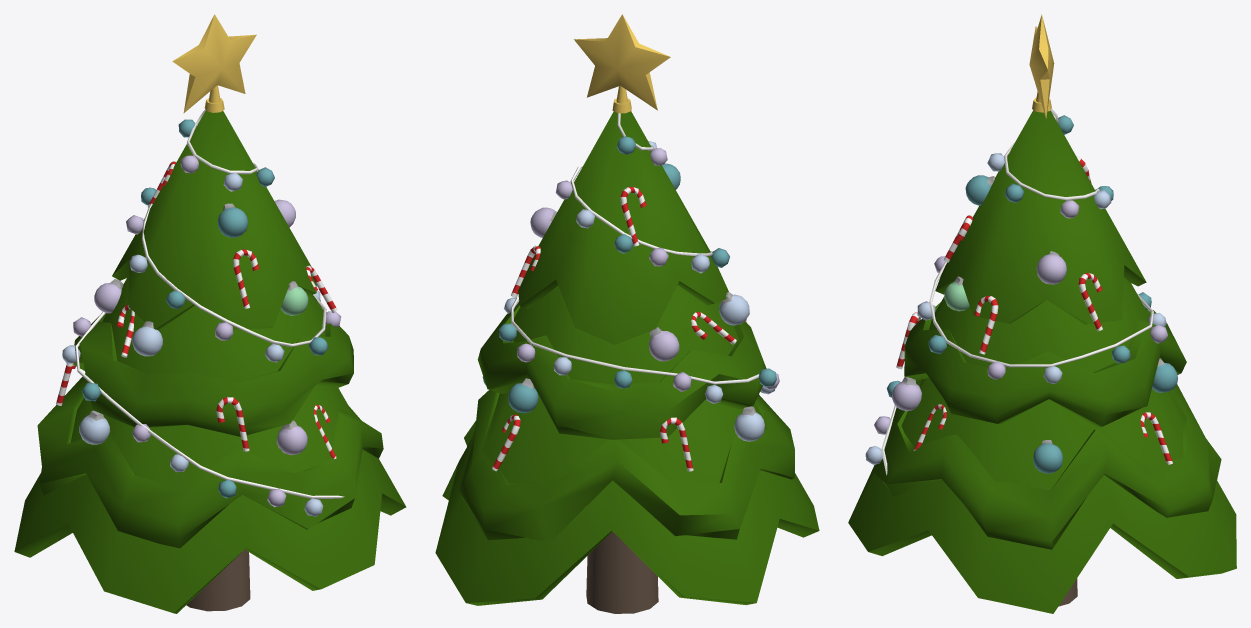
Rendered from Christmas_Tree_6.glb.
3 views of the same model, side by side, from view 1: azimuth 30°, elevation 25°; view 2: azimuth 150°, elevation 25°; view 3: azimuth 270°, elevation 25° (orthographic).
Visible parts, largest first — view 1: Christmas_Tree_6; view 2: Christmas_Tree_6; view 3: Christmas_Tree_6.
Part boxes in pixels (<box>): Christmas_Tree_6: <box>14,14,406,613</box>; Christmas_Tree_6: <box>435,14,819,613</box>; Christmas_Tree_6: <box>848,14,1236,613</box>.
Bounding box in the file's own units: 3.47 × 5.67 × 3.45.
Materials: 1 (1 with a texture image).
